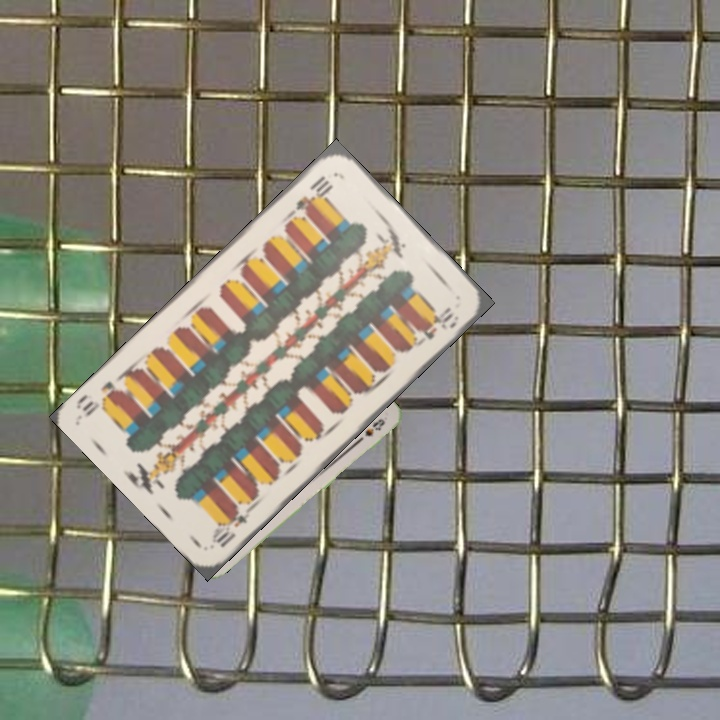E10: (207, 503, 255, 551), (292, 171, 336, 215)
